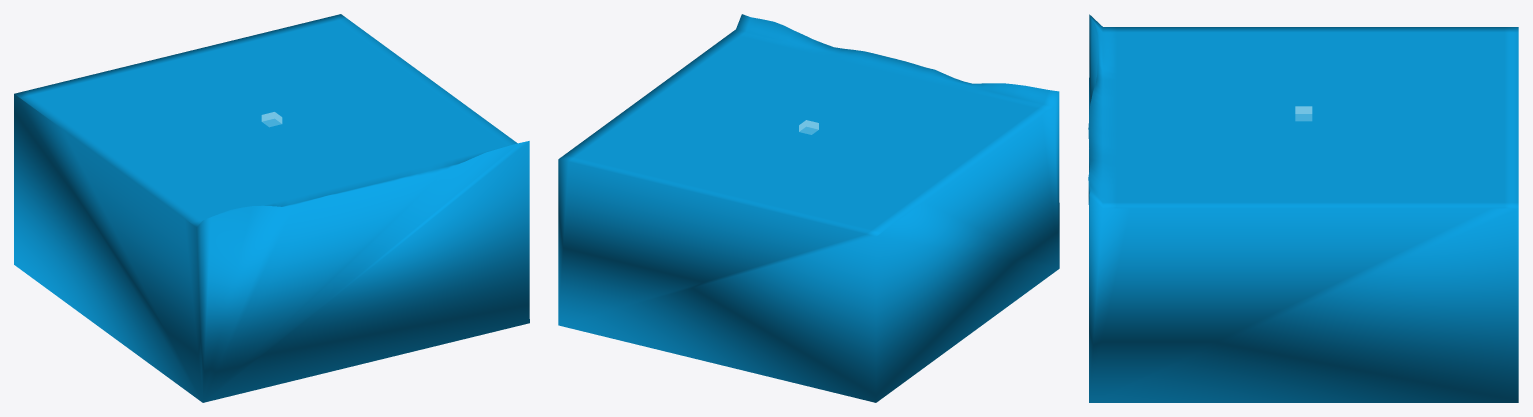
Rendered from my_ocean4.glb.
3 renders of one model, left to right at view 1: azimuth 30°, elevation 25°; view 2: azimuth 150°, elevation 25°; view 3: azimuth 270°, elevation 25°, orthographic. The views are drawn at different scales.
Parts seen in each view (by area): view 1: Cube.001; view 2: Cube.001; view 3: Cube.001.
Part boxes in pixels (x1,y1,x2,y2): Cube.001: (14, 14, 529, 402); Cube.001: (558, 14, 1059, 402); Cube.001: (1088, 14, 1518, 402).
Size of the model in its own units: 50.04 by 26.76 by 50.11.
